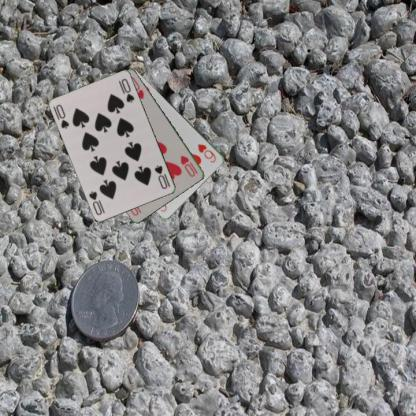10h: (178, 153, 199, 178)
10s: (152, 162, 172, 190), (53, 102, 70, 130)
6h: (196, 141, 218, 164)
